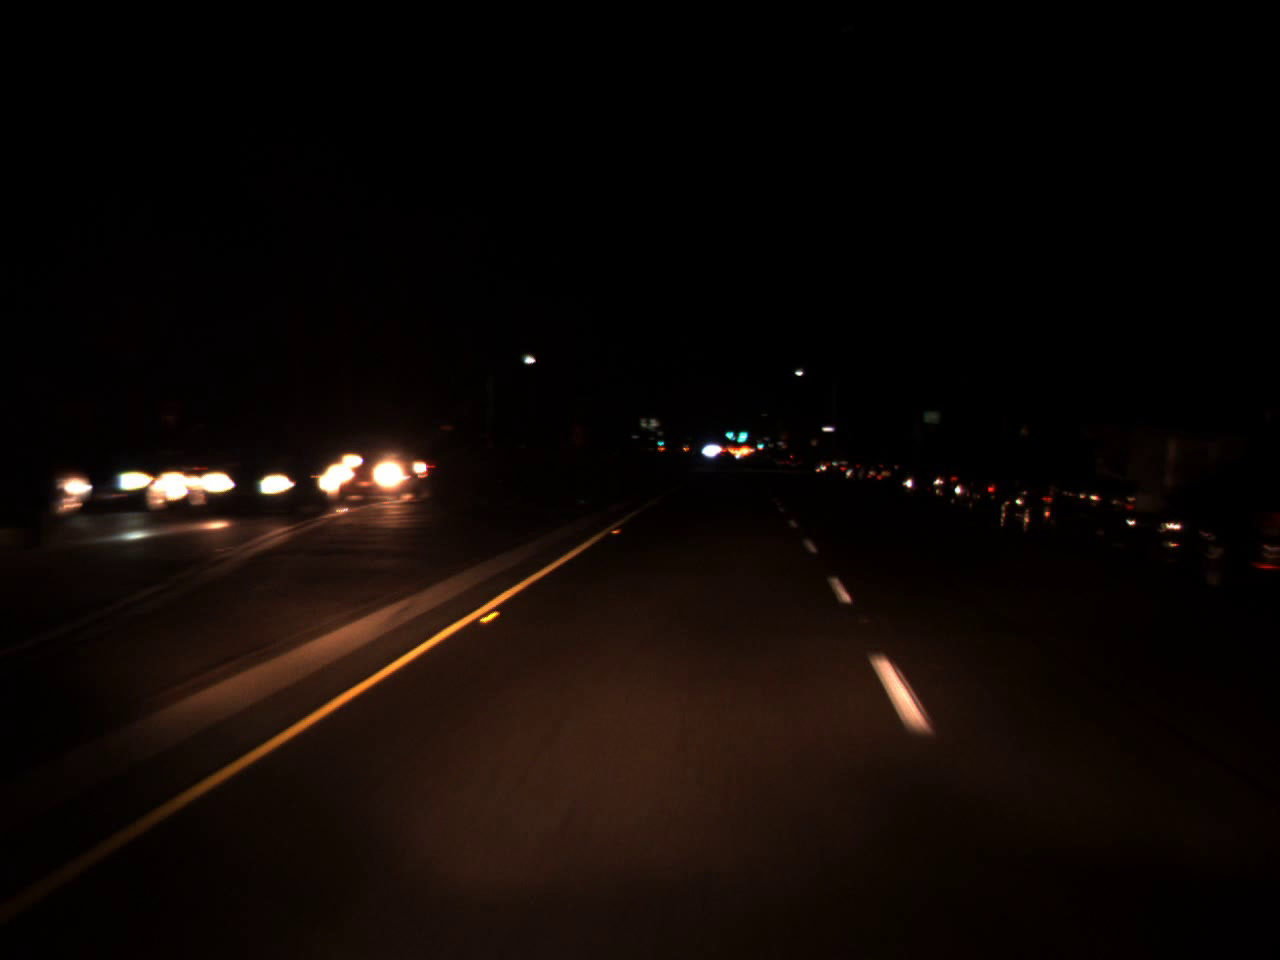go: (732, 419, 750, 443), (723, 416, 733, 443), (752, 433, 766, 451), (654, 431, 664, 449)
